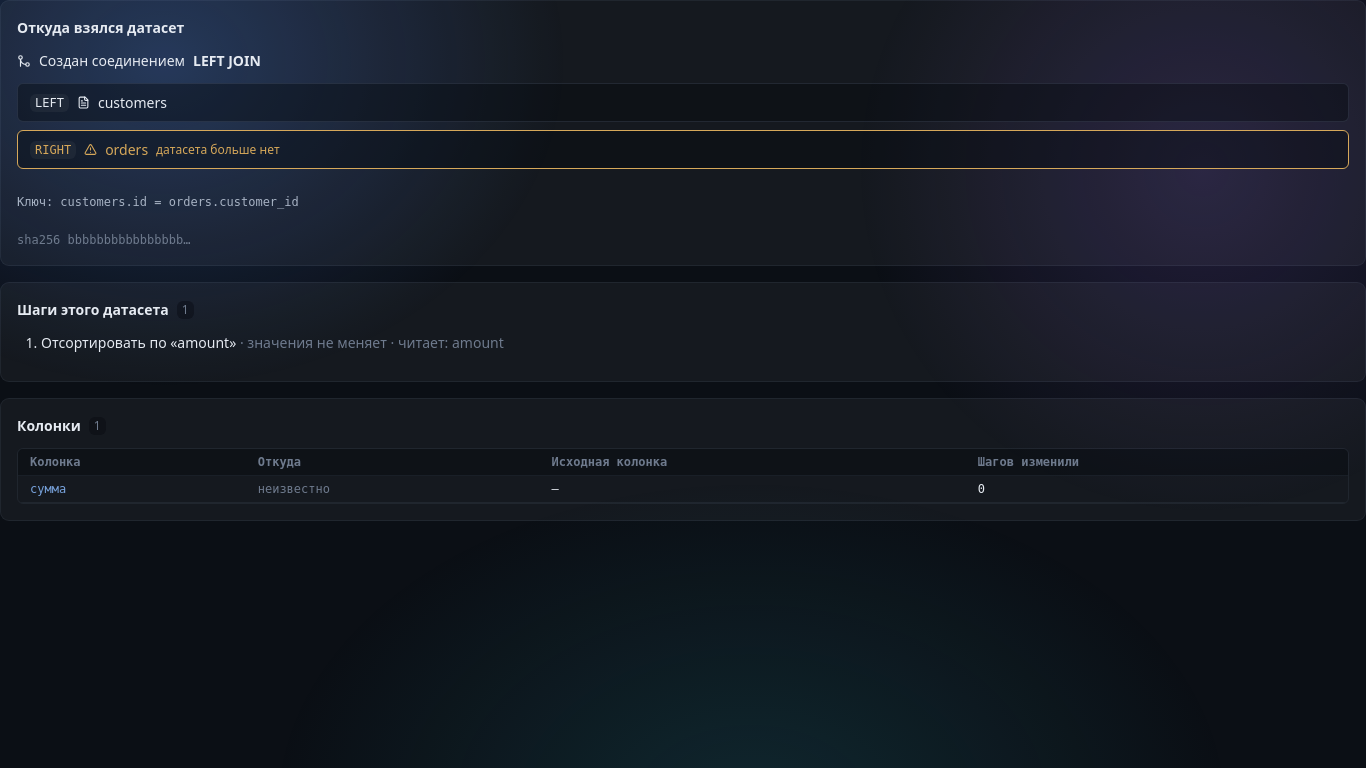
Test: Происхождение › не превращает неизвестное происхождение колонки в источник
This screenshot has width=1366, height=768.
Check: the text "неизвестно" is shown, box [246, 476, 540, 502]
Click the button "сумма".
click(48, 489)  # box [30, 480, 66, 498]
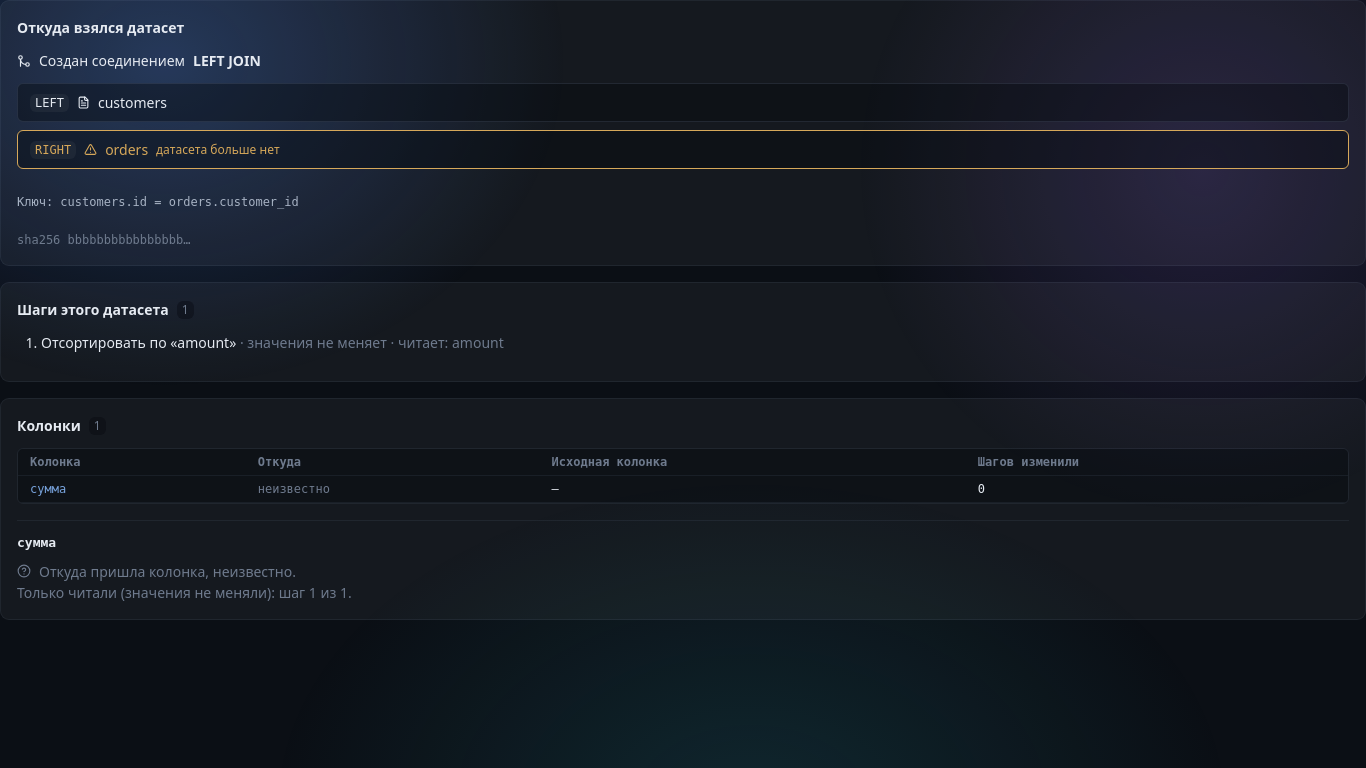
Check: the text "Откуда пришла колонка, неизвестно." is shown, box [17, 562, 296, 580]
